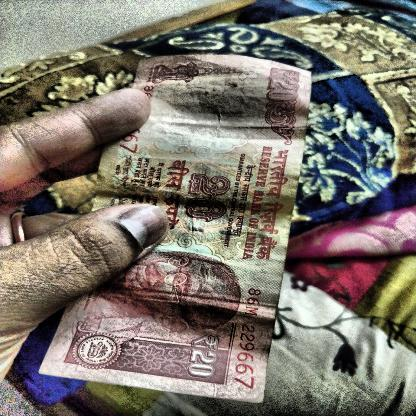Rs20: (179, 168, 235, 227), (178, 328, 231, 382), (260, 65, 305, 107)
